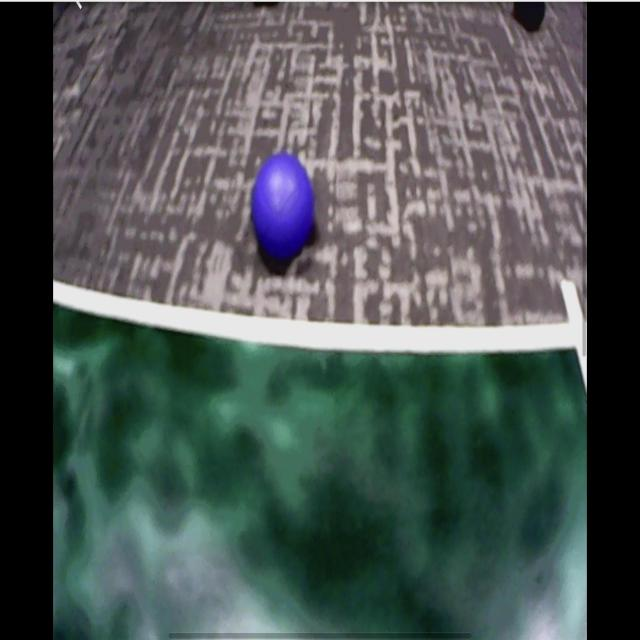ball: (251, 155, 316, 256)
